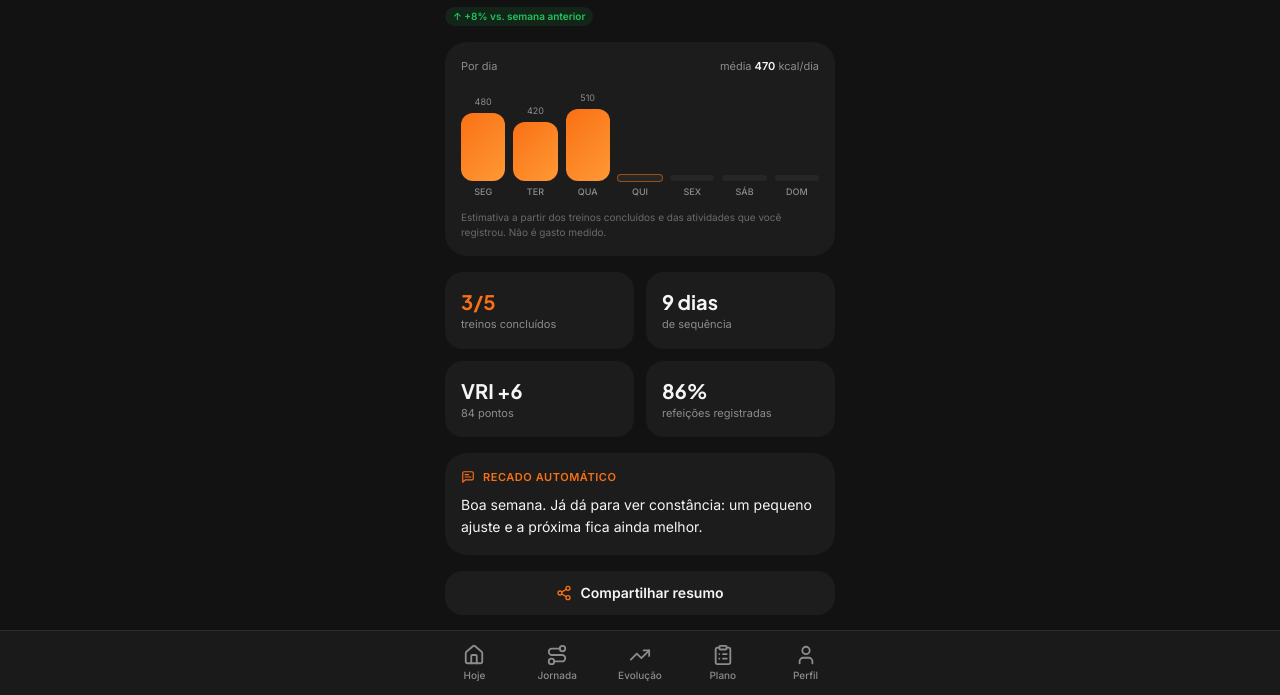
it: Resumo da semana (PDF do Ernâni, tela 17) › sem suporte a canvas: avisa em vez de dizer que compartilhou
This screenshot has width=1280, height=695.
(page scrolled)
Click the button "Compartilhar resumo".
click(640, 593)  # box [445, 571, 835, 615]
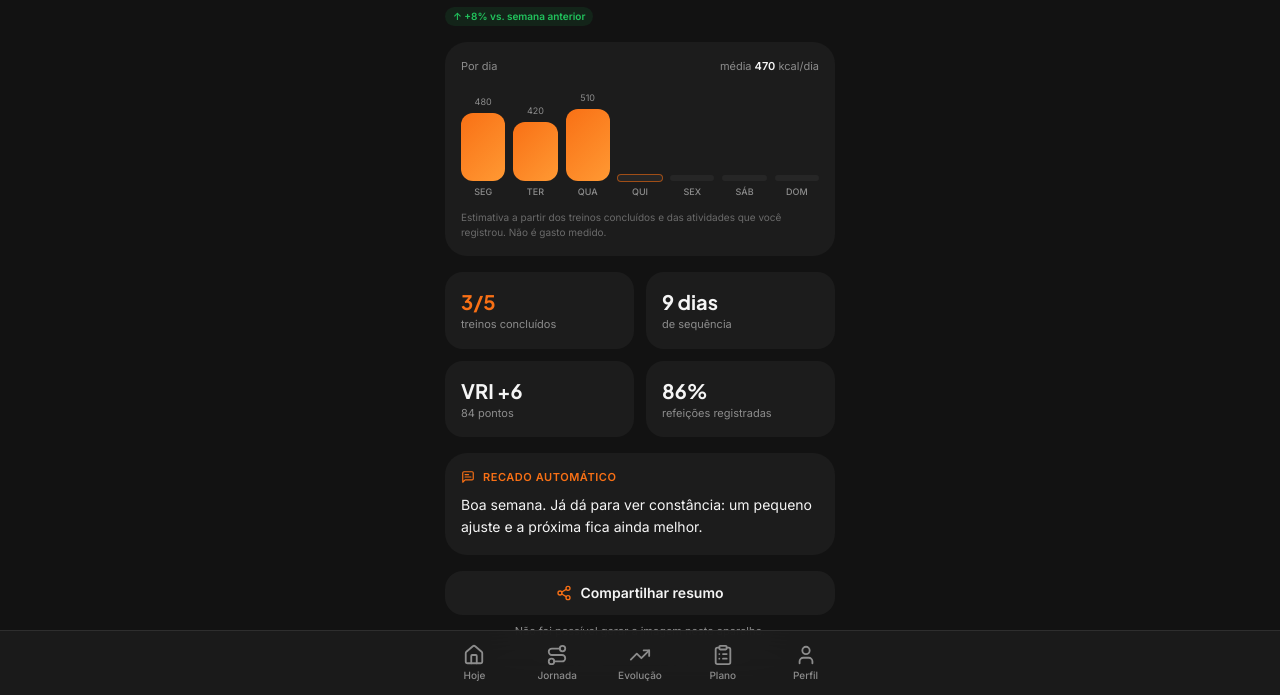
Expected: the message shows "Não foi possível gerar a imagem", [515, 624, 765, 638]
